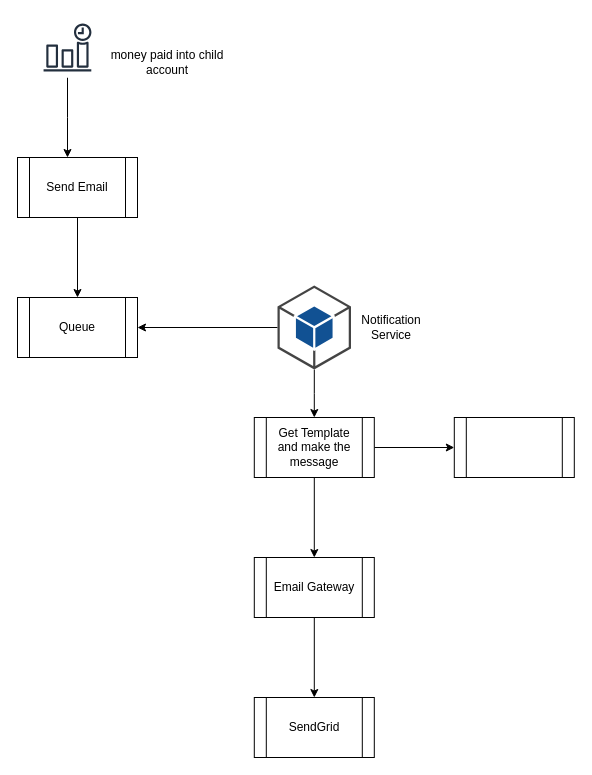
The diagram is 592 pixels wide and 775 high, and some of its shapes have lost their labels. The centre of each missing label's shape, as x and y in pixels:
"Add to SQL audit table" belongs at point (513, 447).
"Event (time- based)" belongs at point (67, 47).
